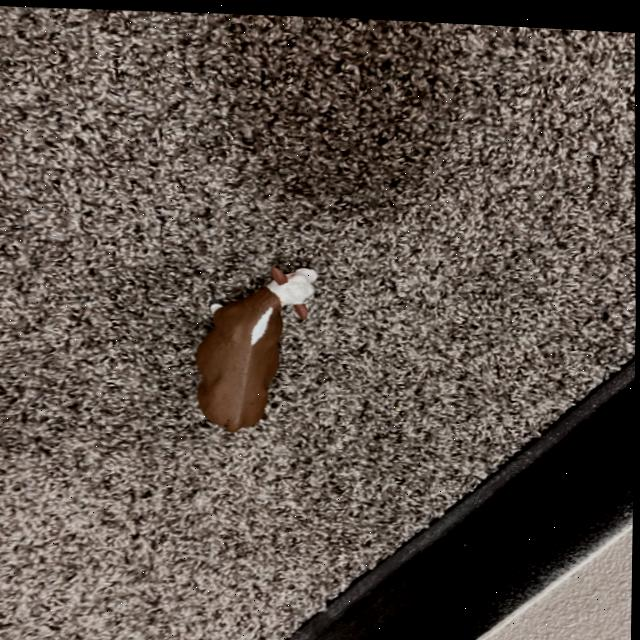cow: (172, 235, 326, 438)
